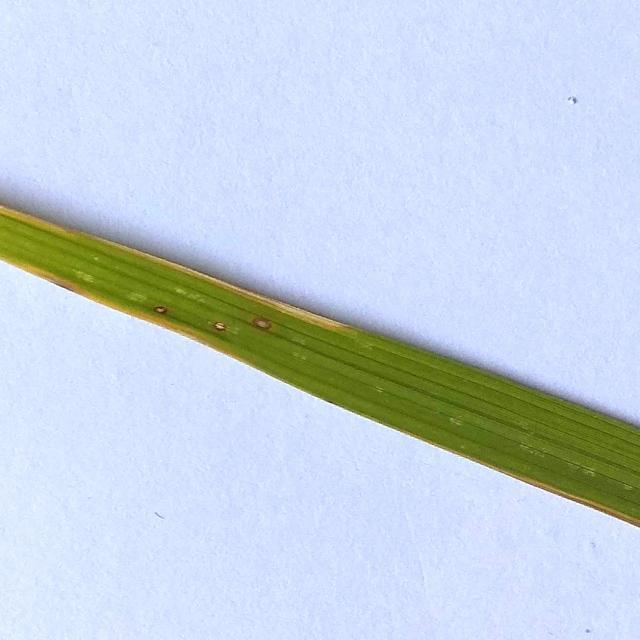Blast: (254, 314, 274, 334), (211, 318, 233, 332), (152, 305, 172, 318)
